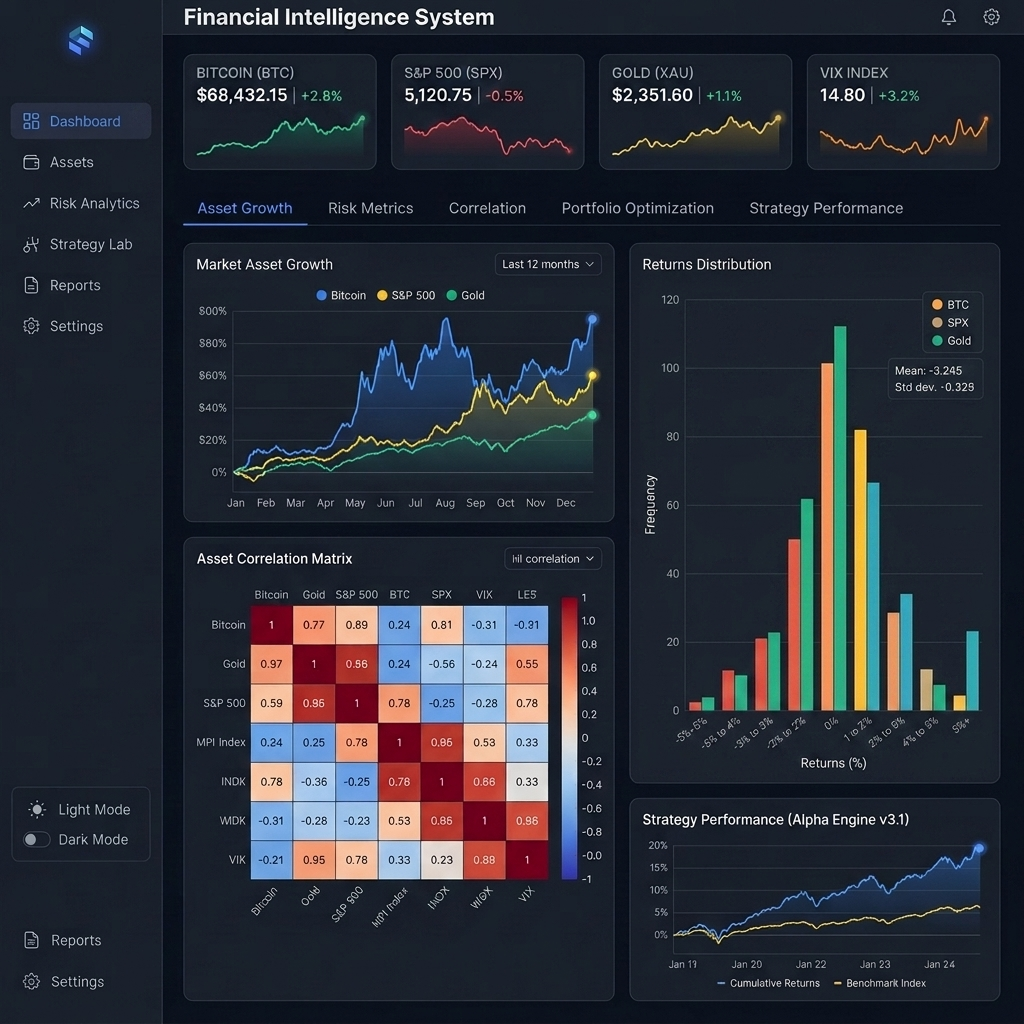

What the dashboard file says about the page in this screenshot:
{"tool":"powerbi","page":{"name":"🏠 Command Center","canvas":[1280,720],"ordinal":0},"visuals":[{"type":"shape","box":[0,0,1280,80],"z":0},{"type":"textbox","box":[0,10.9,1279.5,80.6],"z":1000},{"type":"textbox","box":[0,90.8,567.7,40],"z":2000},{"type":"shape","box":[0,84.6,1280,12.3],"z":3000},{"type":"cardVisual","title":"₿ BITCOIN","fields":{"Data":["macro_financial_dataset.BTC_Latest"]},"box":[8.8,120.3,231.9,123.3],"z":4000},{"type":"cardVisual","title":"🥇 GOLD","fields":{"Data":["macro_financial_dataset.Gold_Latest"]},"box":[245.1,120.3,231.9,123.3],"z":5000},{"type":"cardVisual","title":"📈 S&P 500","fields":{"Data":["macro_financial_dataset.SP500_Latest"]},"box":[481.3,118.9,231.9,123.3],"z":6000},{"type":"cardVisual","title":"😨 VIX FEAR","fields":{"Data":["macro_financial_dataset.VIX_Latest"]},"box":[717.6,118.9,230.4,123.3],"z":7000},{"type":"cardVisual","title":"⚡ BTC VOLATILITY","fields":{"Data":["macro_financial_dataset.BTC_Volatility_Annual"]},"box":[363.9,252.4,240.7,133.5],"z":8000},{"type":"cardVisual","title":"🔗 BTC-SP500 CORR","fields":{"Data":["macro_financial_dataset.BTC_SP500_Corr_Current"]},"box":[5.9,253.9,352.2,132.1],"z":9000},{"type":"cardVisual","title":"📊 MARKET STATUS","fields":{"Data":["macro_financial_dataset.Market_Regime"]},"box":[952.4,118.9,327.2,123.3],"z":10000},{"type":"lineChart","title":"📈 Asset Price History — 2014 to 2026","fields":{"Category":["macro_financial_dataset.Date"],"Y":["Sum(macro_financial_dataset.BTC)","Sum(macro_financial_dataset.Gold)","Sum(macro_financial_dataset.SP500)"]},"box":[610.4,242.1,669.1,221.6],"z":11000},{"type":"clusteredBarChart","title":"Bitcoin Annual Returns","fields":{"Category":["macro_financial_dataset.Year"],"Y":["Avg(macro_financial_dataset.BTC_RET_Pct)"]},"box":[0,399.1,390.3,278.8],"z":12000},{"type":"donutChart","title":"Risk Distribution","fields":{"Y":["macro_financial_dataset.BTC_Volatility_Annual","macro_financial_dataset.Gold_Volatility_Annual","macro_financial_dataset.SP500_Volatility_Annual"]},"box":[898.1,471,381.5,199.6],"z":13000},{"type":"gauge","title":"BTC-SP500 Correlation","fields":{"Y":["macro_financial_dataset.BTC_SP500_Corr_Current"]},"box":[406.5,471,474,198.1],"z":14000},{"type":"actionButton","box":[0,678,302,42],"z":15000},{"type":"actionButton","box":[321.5,678.5,306.2,41.5],"z":16000},{"type":"actionButton","box":[644.6,678.5,295.4,41.5],"z":17000},{"type":"actionButton","box":[960,678.5,320,41.5],"z":18000}]}

Visuals, with their boxes on the page's 1280x720 design canvas (x1, y1, x2, y2). These are canvas units, not pixel positions in the 1024x1024 screenshot, which may show the page scaled, cropped or inside an application window:
shape: BBox(0, 0, 1280, 80)
textbox: BBox(0, 11, 1280, 92)
textbox: BBox(0, 91, 568, 131)
shape: BBox(0, 85, 1280, 97)
"₿ BITCOIN" cardVisual: BBox(9, 120, 241, 244)
"🥇 GOLD" cardVisual: BBox(245, 120, 477, 244)
"📈 S&P 500" cardVisual: BBox(481, 119, 713, 242)
"😨 VIX FEAR" cardVisual: BBox(718, 119, 948, 242)
"⚡ BTC VOLATILITY" cardVisual: BBox(364, 252, 605, 386)
"🔗 BTC-SP500 CORR" cardVisual: BBox(6, 254, 358, 386)
"📊 MARKET STATUS" cardVisual: BBox(952, 119, 1280, 242)
"📈 Asset Price History — 2014 to 2026" lineChart: BBox(610, 242, 1280, 464)
"Bitcoin Annual Returns" clusteredBarChart: BBox(0, 399, 390, 678)
"Risk Distribution" donutChart: BBox(898, 471, 1280, 671)
"BTC-SP500 Correlation" gauge: BBox(406, 471, 880, 669)
actionButton: BBox(0, 678, 302, 720)
actionButton: BBox(322, 678, 628, 720)
actionButton: BBox(645, 678, 940, 720)
actionButton: BBox(960, 678, 1280, 720)
